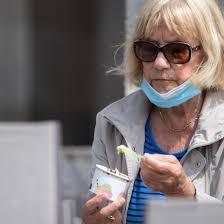mask_weared_incorrect: (133, 38, 194, 104)
